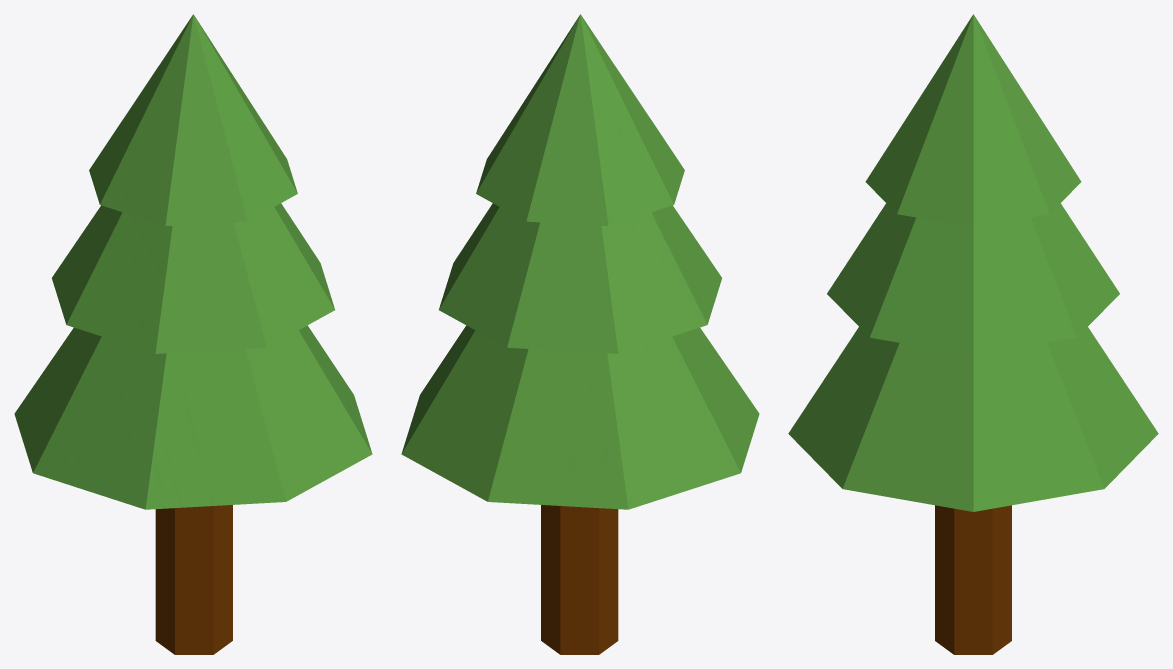
The model's file is Arbol.fbx.
3 views of the same model, side by side, from view 1: azimuth 30°, elevation 25°; view 2: azimuth 150°, elevation 25°; view 3: azimuth 270°, elevation 25° (orthographic).
Visible parts, largest first — view 1: Arbol_LowPoly, Arbol_LowPoly.001; view 2: Arbol_LowPoly, Arbol_LowPoly.001; view 3: Arbol_LowPoly, Arbol_LowPoly.001.
Part boxes in pixels (x1,y1,x2,y2): Arbol_LowPoly: [14, 14, 372, 509]; Arbol_LowPoly.001: [155, 505, 232, 654]; Arbol_LowPoly: [401, 14, 759, 509]; Arbol_LowPoly.001: [541, 505, 618, 654]; Arbol_LowPoly: [788, 14, 1158, 511]; Arbol_LowPoly.001: [935, 505, 1011, 654].
Bounding box in the file's own units: 240 × 448 × 240.
2 materials, 2 textured.
